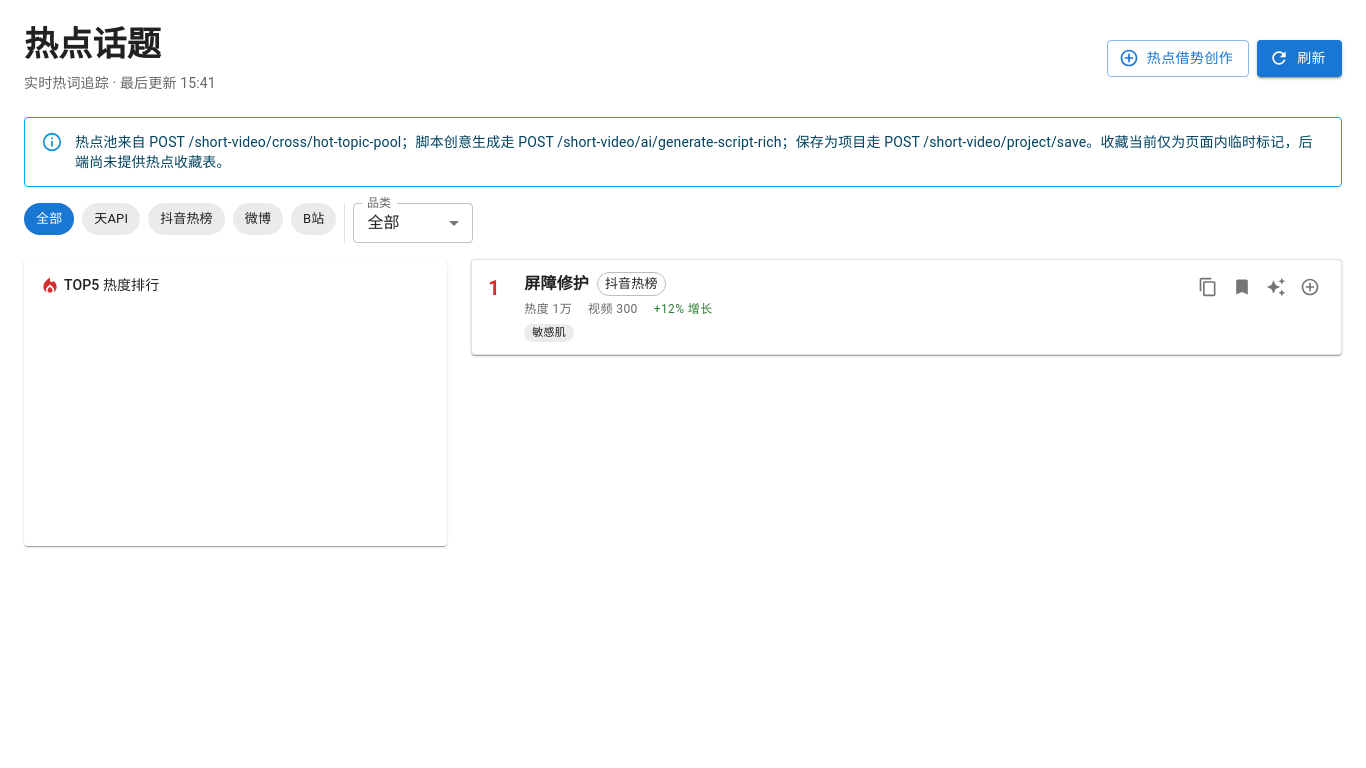
Scenario: ShortVideo ops pages › HotTopicPage keeps selected topics when project save fails and does not fabricate a project
The image size is (1366, 768).
Click the text "屏障修护". click: {"x": 557, "y": 284}
box: [524,272,589,296]
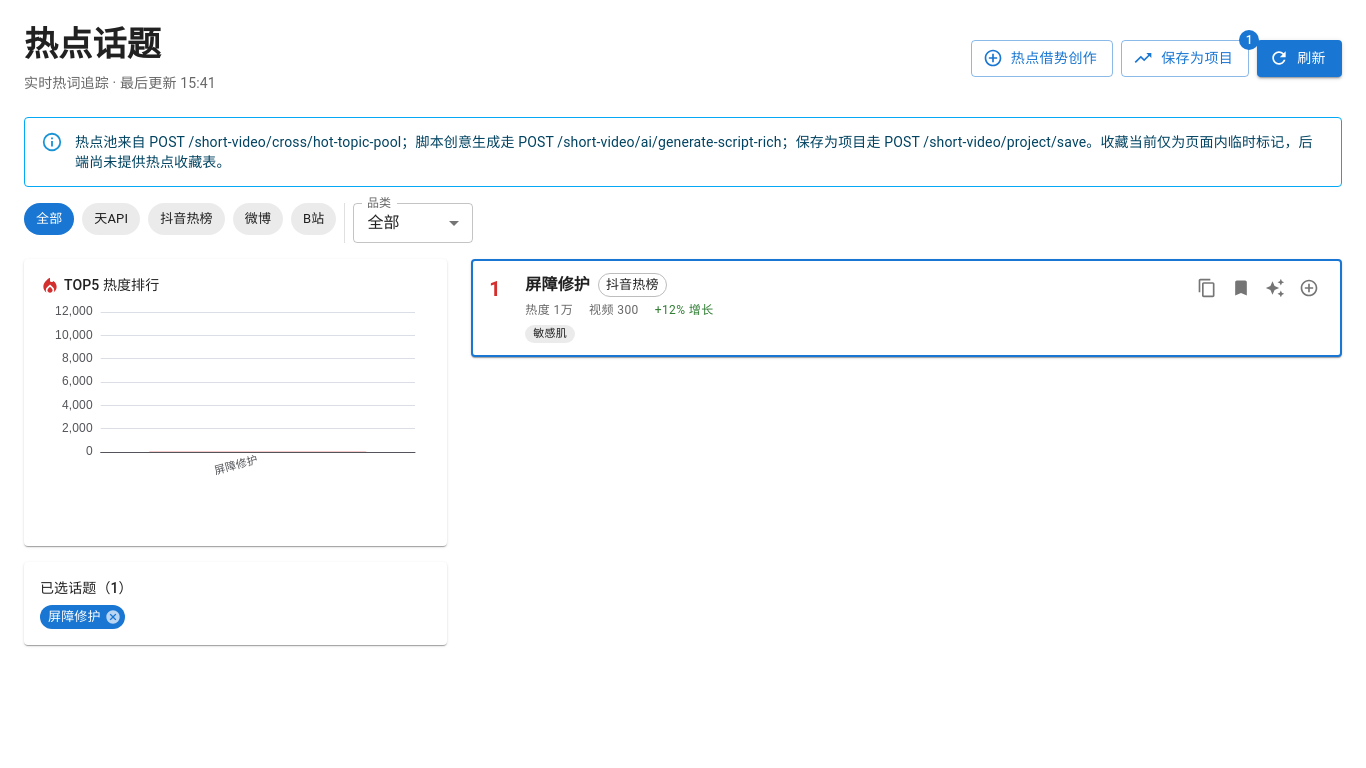
Click the button "保存为项目". click: {"x": 1185, "y": 58}
box: [1121,40,1249,77]
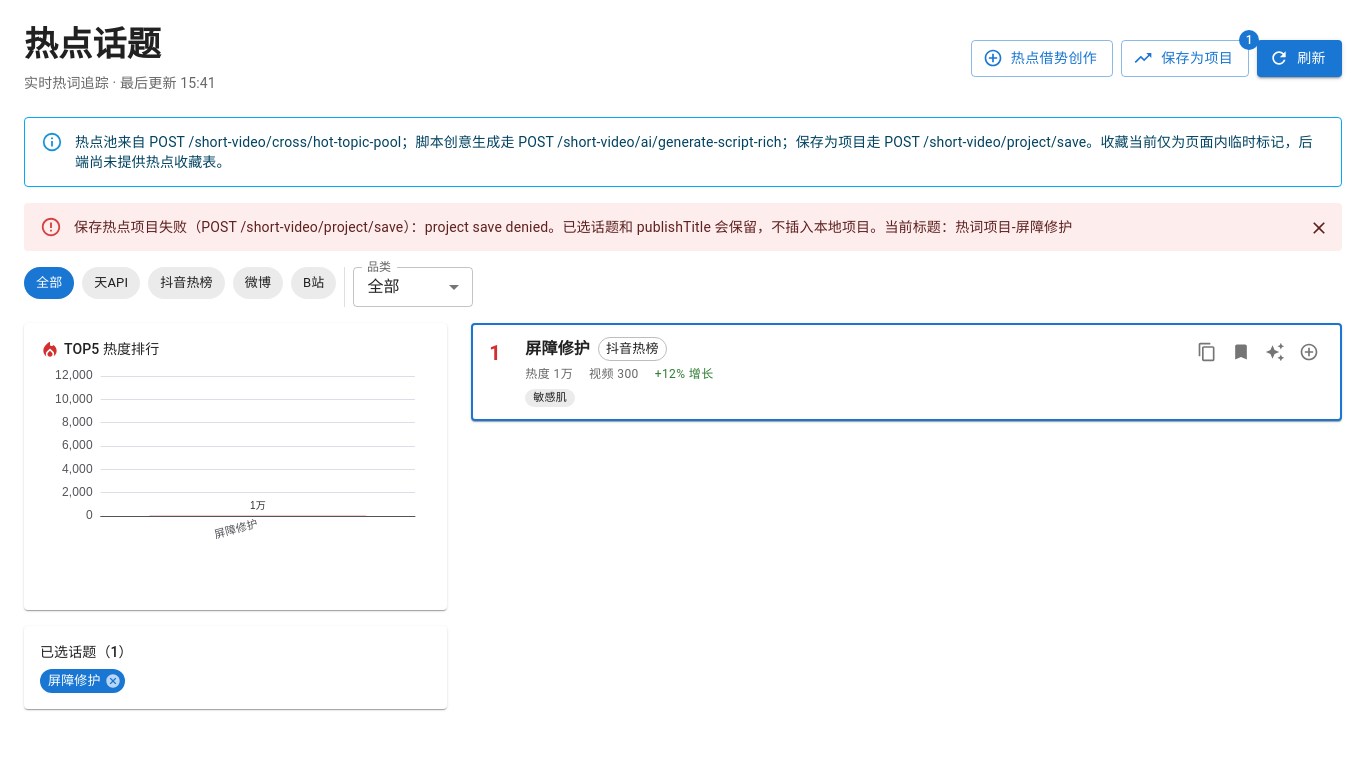
Now the heading "已选话题（1）" is shown, box [40,644,133,660]
Now the text "已选话题和 publishTitle 会保留" is shown, box [74,219,1072,235]
